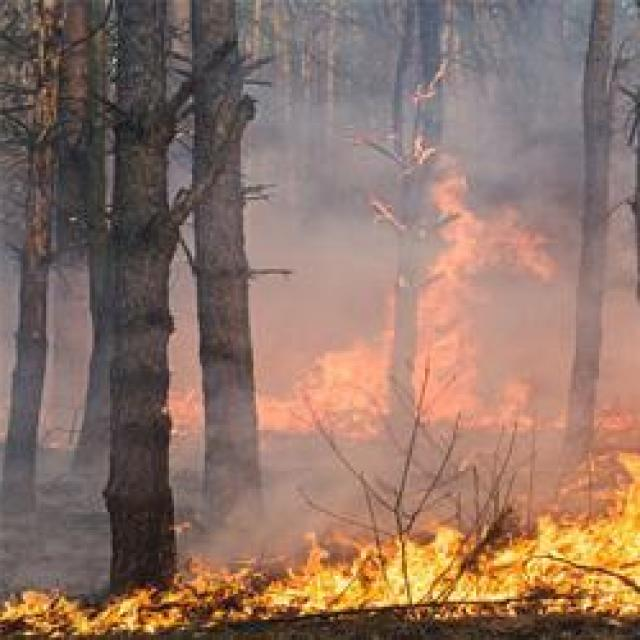fire: (473, 547, 640, 613), (278, 542, 456, 602), (57, 589, 209, 635)
smoke: (0, 438, 105, 564)
